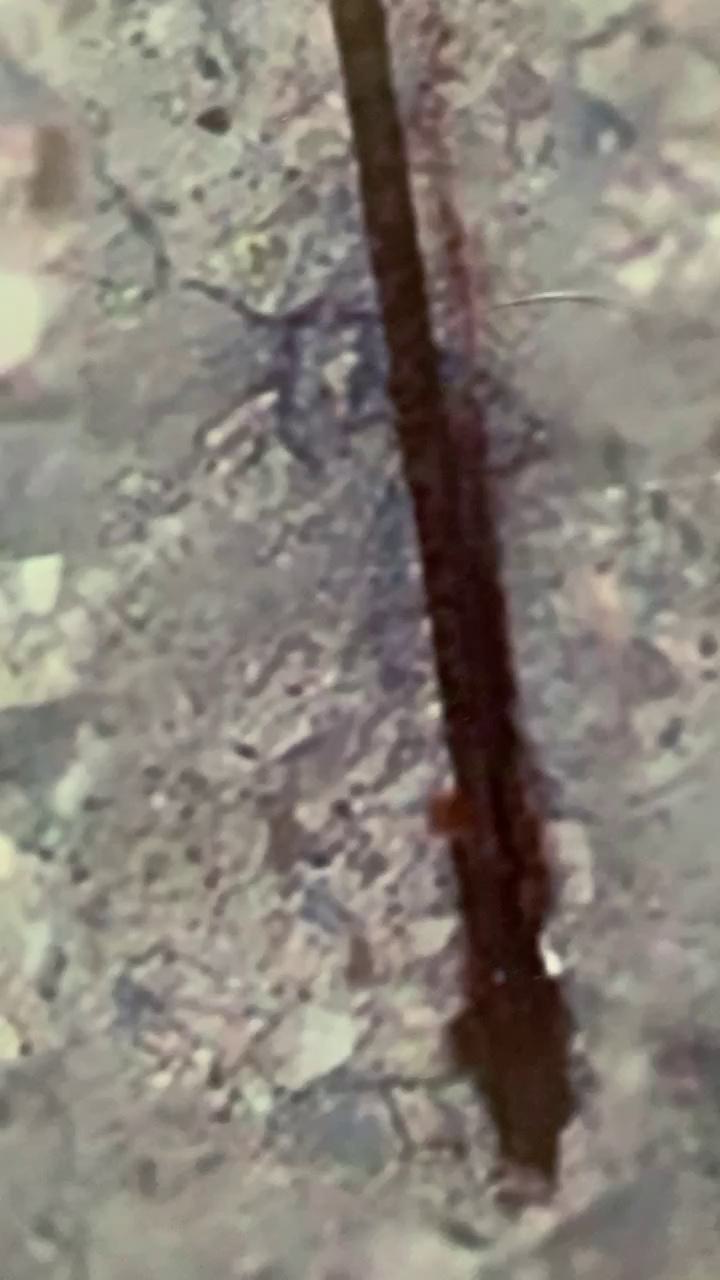Exposed reinforcement: (326, 1, 578, 1190)
